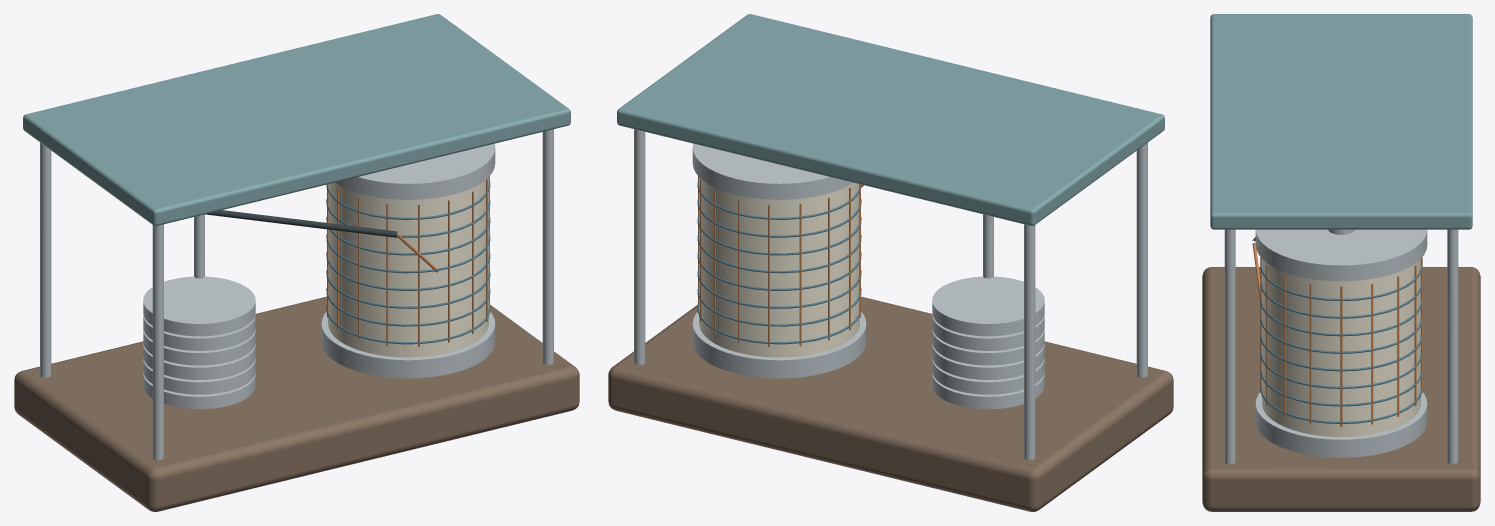
Rendered from abandoned-weather-station-and-storm-shelter-barograph-7cf00755__31011.glb.
The picture shows the model from 3 angles, left to right: view 1: azimuth 30°, elevation 25°; view 2: azimuth 150°, elevation 25°; view 3: azimuth 270°, elevation 25°; orthographic projection.
Parts seen in each view (by area): view 1: barograph; view 2: barograph; view 3: barograph.
Part boxes in pixels (bbox=[...]): barograph: bbox=[14, 14, 579, 511]; barograph: bbox=[608, 14, 1173, 511]; barograph: bbox=[1202, 14, 1480, 511].
Size of the model in its own units: 0.62 by 0.413 by 0.35.
